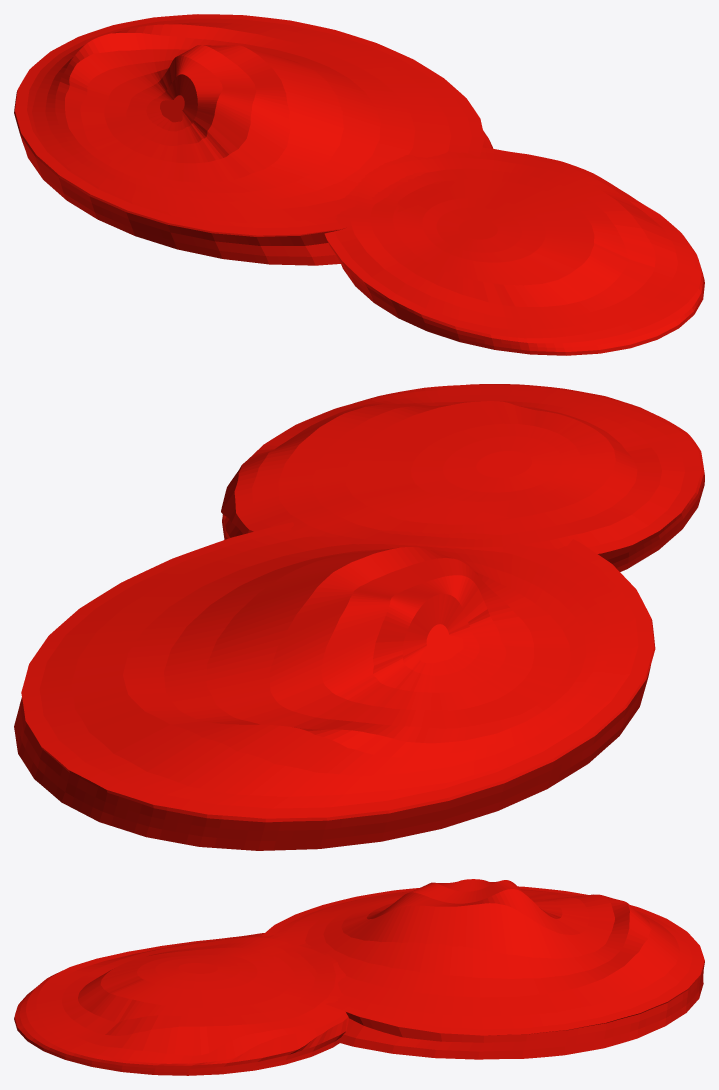
The model's file is casa03.fbx.
3 renders of one model, top to bottom at view 1: azimuth 30°, elevation 25°; view 2: azimuth 150°, elevation 25°; view 3: azimuth 270°, elevation 25°, orthographic. The views are drawn at different scales.
Parts seen in each view (by area): view 1: Cylinder.003; view 2: Cylinder.003; view 3: Cylinder.003.
Boxes of the visible parts, x1,y1,x2,y2 form: Cylinder.003: (14,14,704,355); Cylinder.003: (14,384,704,850); Cylinder.003: (14,879,704,1075).
Size of the model in its own units: 1097 by 256 by 1902.
